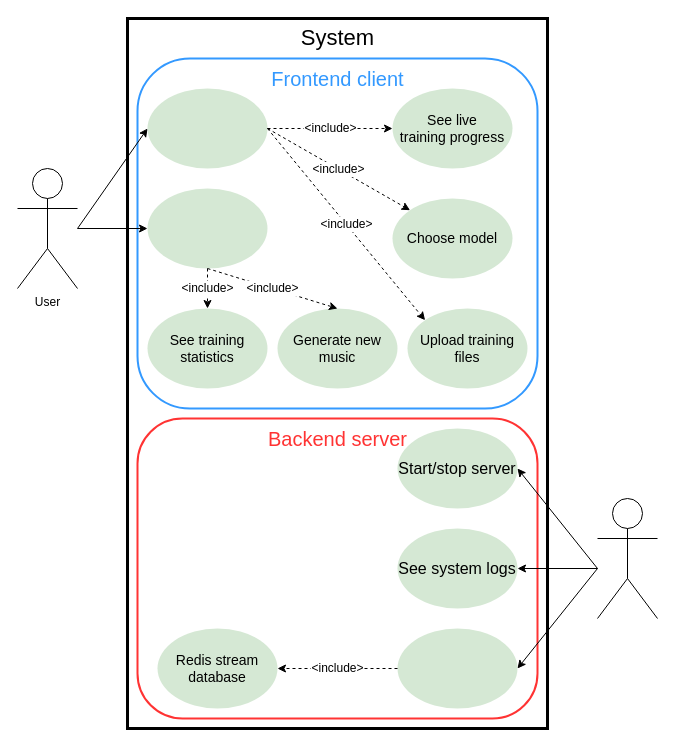
Some shapes in this 675 by 747 pixel diagram are drawn without their labels. Here are the shapes that lost their labels. From the top down, the box of each, then its label:
(147, 88, 267, 168): Train model
(147, 188, 267, 268): See all training sessions
(596, 498, 658, 618): Admin
(397, 628, 517, 708): Manage databases
